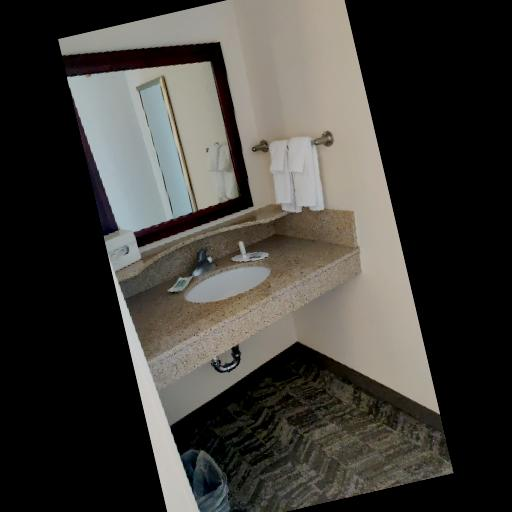clean_floor: (176, 355, 456, 512)
clean_sink: (110, 197, 362, 387)
folded_towel: (256, 128, 333, 220)
